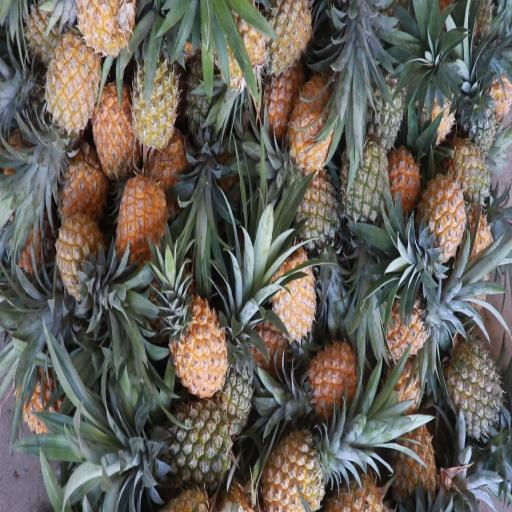------------------------------: (290, 148, 341, 266), (452, 140, 492, 225)
Pineapple - v8 v1: (38, 27, 104, 147), (255, 401, 325, 512), (283, 54, 342, 175), (379, 394, 439, 512), (298, 324, 361, 430), (164, 276, 227, 381), (125, 33, 181, 148), (47, 189, 103, 299), (411, 165, 470, 269), (110, 159, 168, 264), (87, 75, 137, 191), (369, 273, 433, 362), (270, 237, 316, 356), (263, 0, 315, 78)
